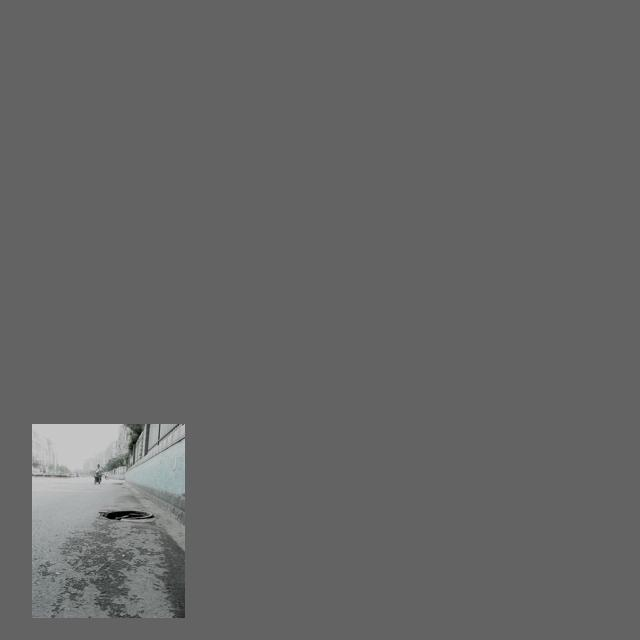broke: (90, 504, 159, 528)
